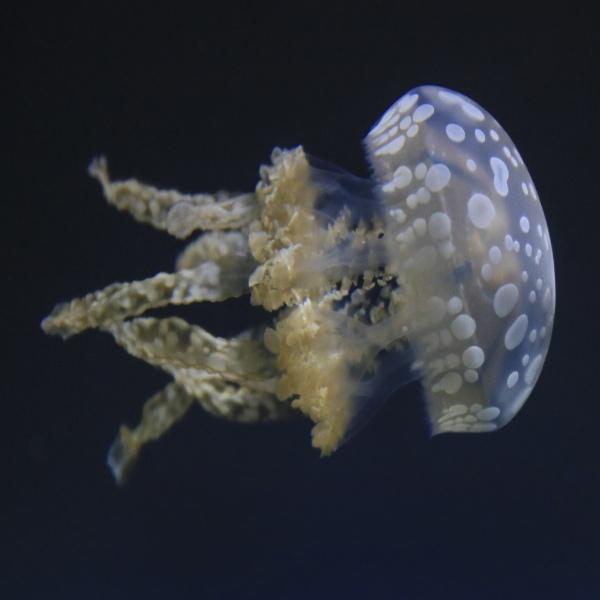Jellyfish: (58, 87, 554, 473)
